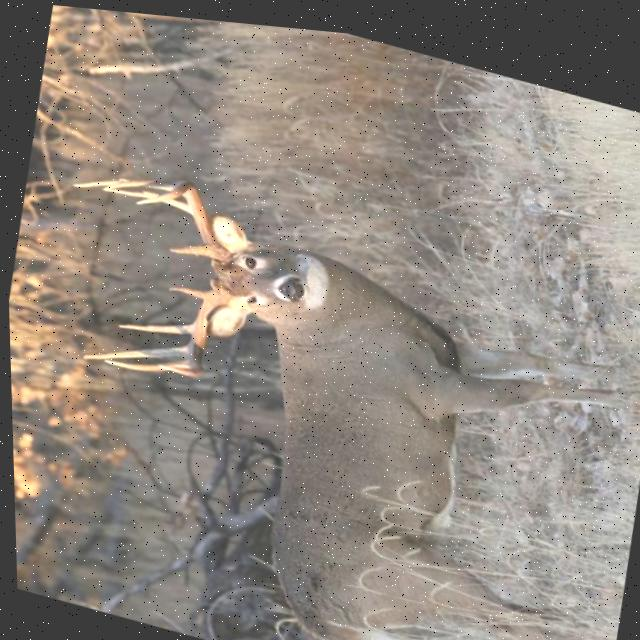L-F: (131, 176, 226, 257)
L-G1: (166, 240, 207, 252)
R-F: (152, 284, 227, 372)
R-G1: (165, 282, 207, 294)
R-G2: (114, 320, 189, 331)
R-G3: (78, 341, 185, 357)
